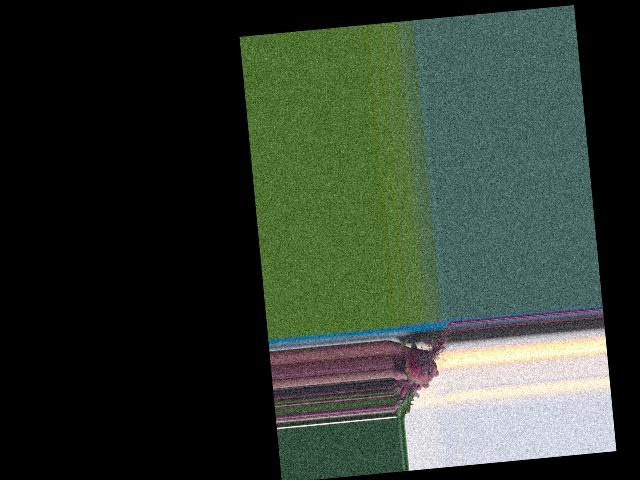beet: (387, 322, 459, 419)
